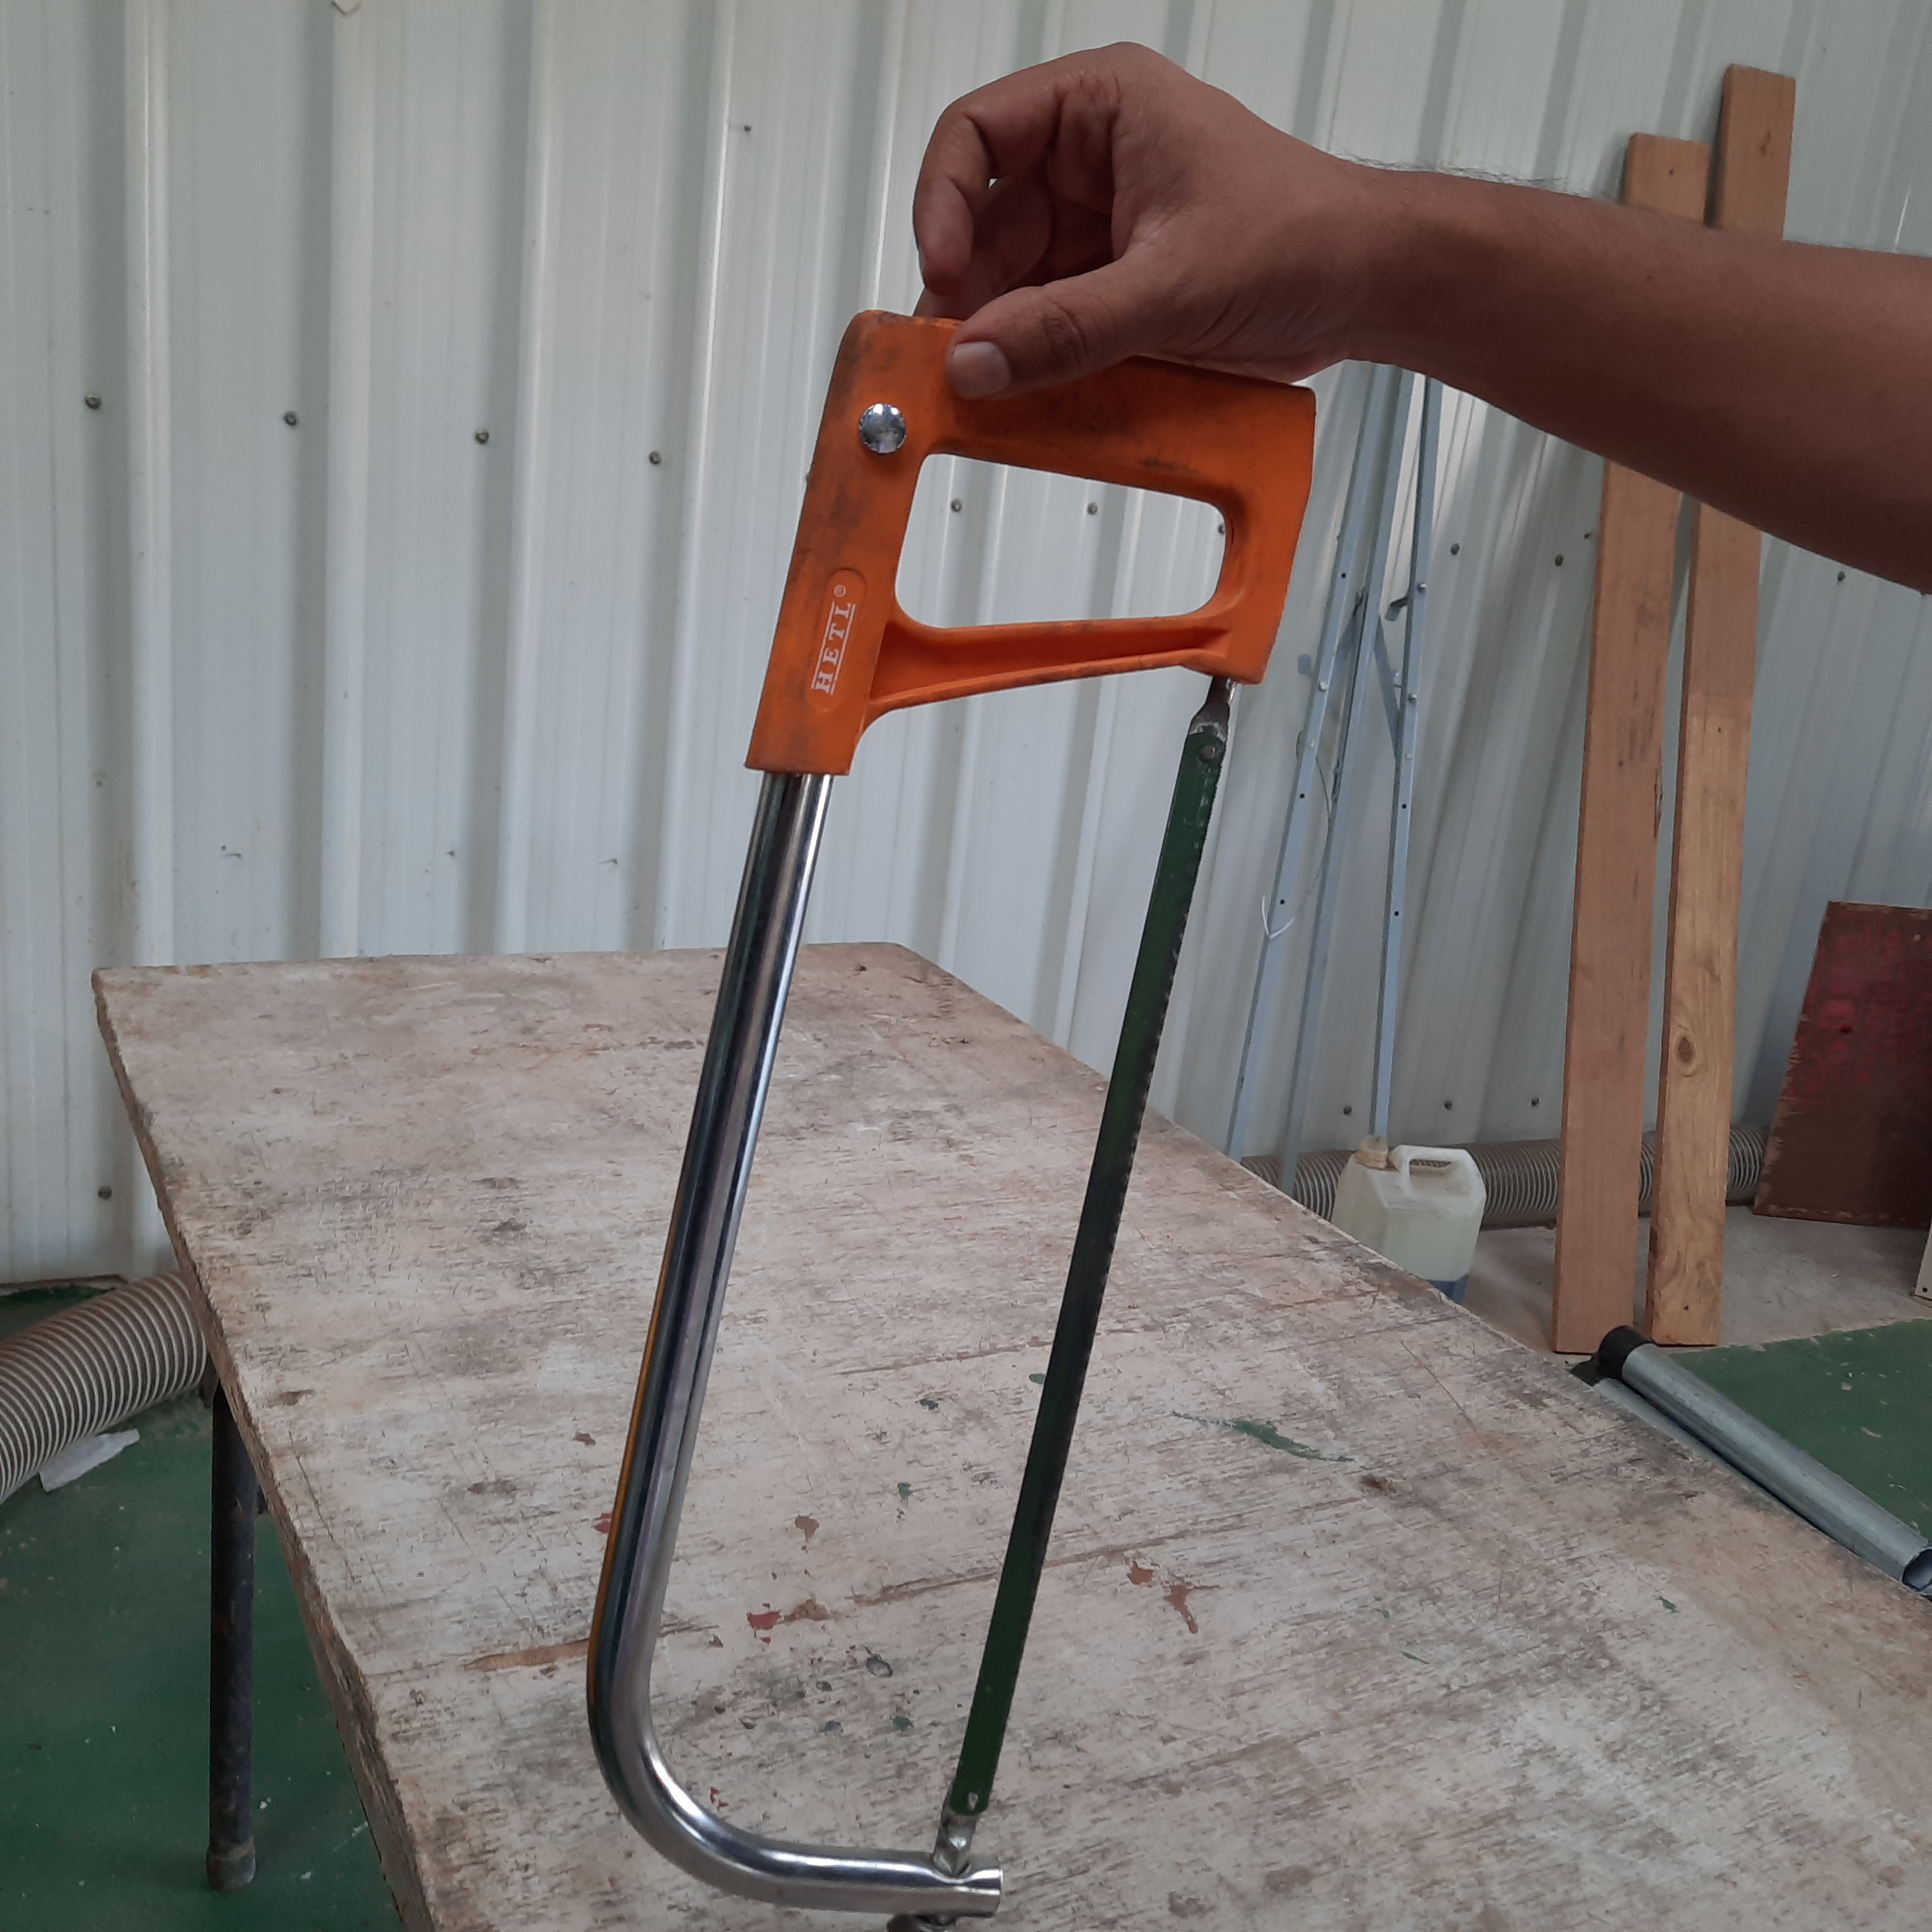Hexaframe: (563, 274, 1352, 1932)
